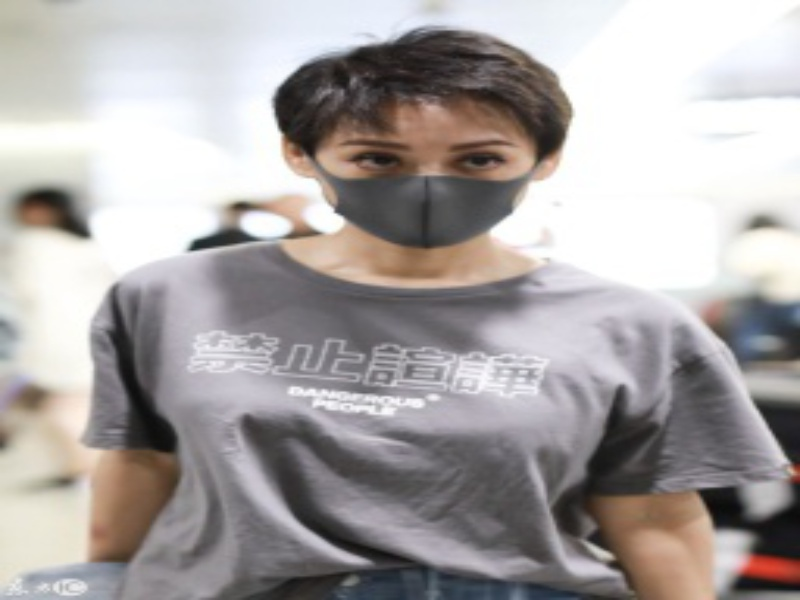ManaoArotava: (276, 12, 600, 310)
